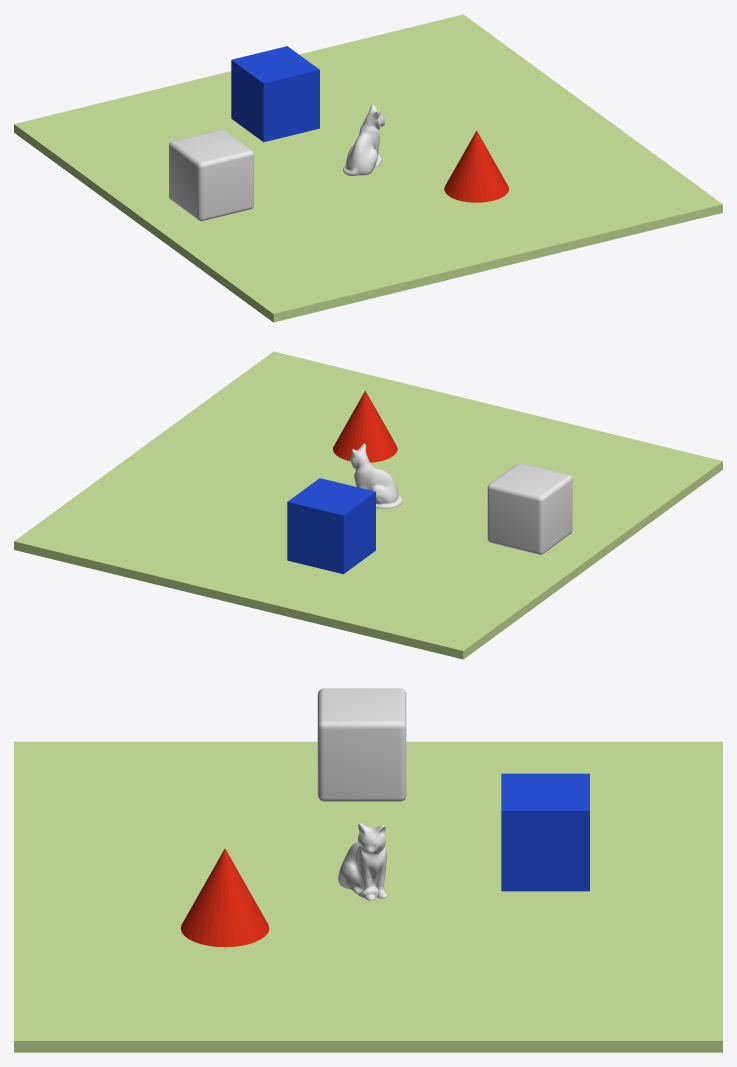
3 views of the same model, one above another, from view 1: azimuth 30°, elevation 25°; view 2: azimuth 150°, elevation 25°; view 3: azimuth 270°, elevation 25° (orthographic). The views are drawn at different scales.
Parts seen in each view (by area): view 1: Plane, Cube, Cube.001, Cone, concrete_cat_statue; view 2: Plane, Cube, Cube.001, Cone, concrete_cat_statue; view 3: Plane, Cube, Cube.001, Cone, concrete_cat_statue.
Boxes of the visible parts, bbox=[...] form: Plane: bbox=[14, 14, 722, 322]; Cube: bbox=[231, 46, 319, 142]; Cube.001: bbox=[169, 129, 253, 221]; Cone: bbox=[444, 130, 508, 202]; concrete_cat_statue: bbox=[342, 104, 385, 175]; Plane: bbox=[14, 351, 722, 659]; Cube: bbox=[287, 478, 375, 574]; Cube.001: bbox=[487, 463, 572, 554]; Cone: bbox=[333, 390, 397, 462]; concrete_cat_statue: bbox=[350, 443, 402, 508]; Plane: bbox=[14, 741, 722, 1052]; Cube: bbox=[501, 773, 589, 891]; Cube.001: bbox=[317, 688, 406, 801]; Cone: bbox=[180, 848, 269, 947]; concrete_cat_statue: bbox=[338, 823, 387, 900].
Size of the model in its own units: 16 by 2.29 by 16.
